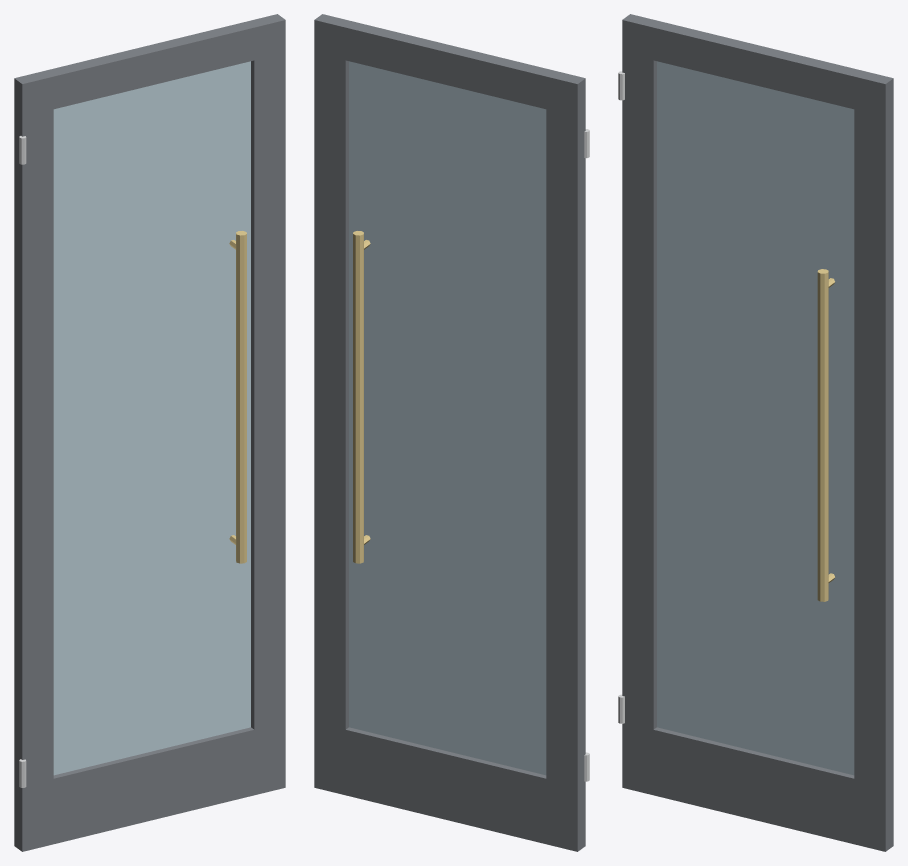
File: door_leaf_glass.glb
3 renders of one model, left to right at view 1: azimuth 30°, elevation 25°; view 2: azimuth 150°, elevation 25°; view 3: azimuth 330°, elevation 25°, orthographic.
Parts seen in each view (by area): view 1: door_leaf_glass_glass, door_leaf_glass_frame, door_leaf_glass_gold; view 2: door_leaf_glass_glass, door_leaf_glass_frame, door_leaf_glass_gold; view 3: door_leaf_glass_glass, door_leaf_glass_frame, door_leaf_glass_gold.
Part boxes in pixels (bbox=[...]): door_leaf_glass_glass: bbox=[53, 61, 250, 775]; door_leaf_glass_frame: bbox=[14, 14, 285, 851]; door_leaf_glass_gold: bbox=[229, 231, 246, 563]; door_leaf_glass_glass: bbox=[349, 61, 546, 775]; door_leaf_glass_frame: bbox=[314, 14, 585, 851]; door_leaf_glass_gold: bbox=[353, 231, 370, 563]; door_leaf_glass_glass: bbox=[657, 61, 854, 775]; door_leaf_glass_frame: bbox=[622, 14, 893, 851]; door_leaf_glass_gold: bbox=[817, 269, 835, 601].
Size of the model in its own units: 0.85 by 2.34 by 0.177.
